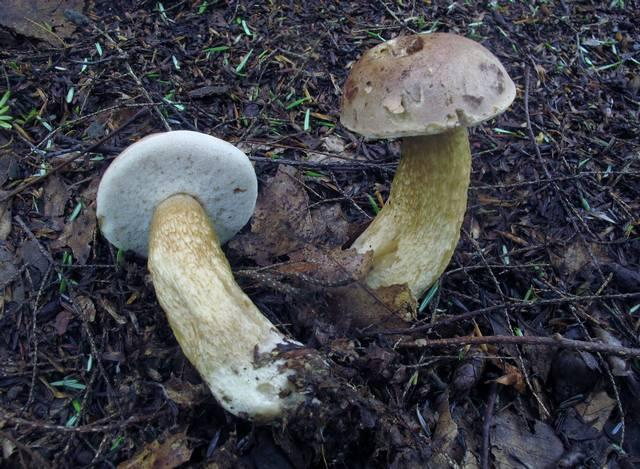poisonous_mushroom: (94, 128, 332, 423), (323, 30, 517, 327)
